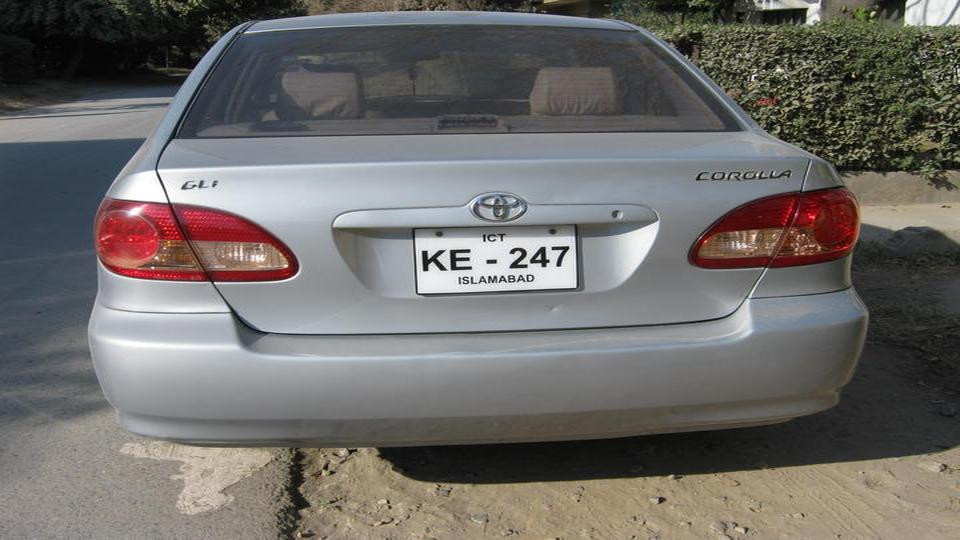NumberPlate: (408, 214, 606, 302)
